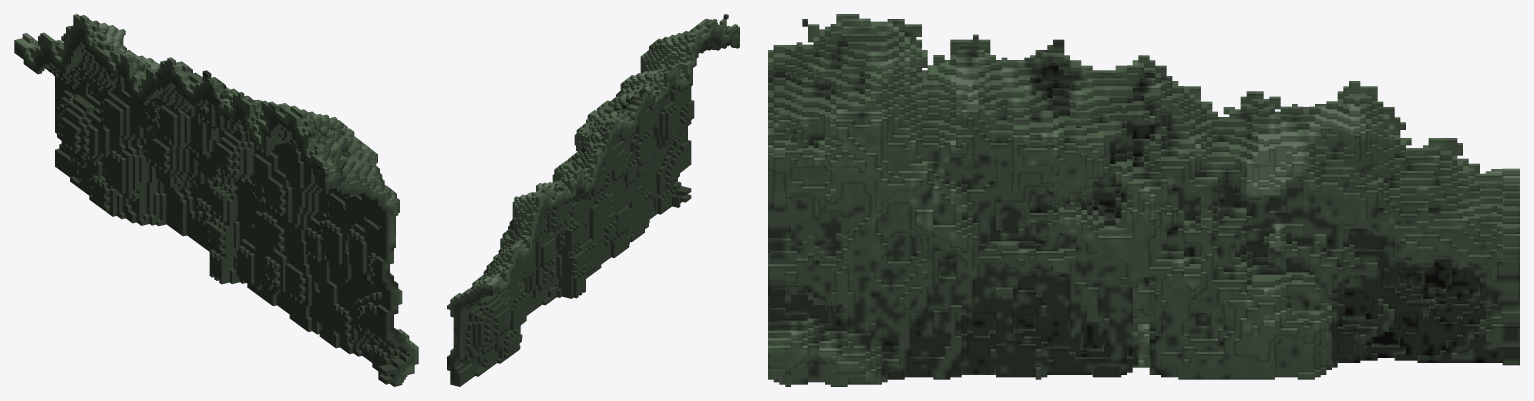
The model's file is treeline01-13-14r.fbx.
3 views of the same model, side by side, from view 1: azimuth 30°, elevation 25°; view 2: azimuth 150°, elevation 25°; view 3: azimuth 270°, elevation 25° (orthographic). The views are drawn at different scales.
Visible parts, largest first — view 1: treeline01-13-14r; view 2: treeline01-13-14r; view 3: treeline01-13-14r.
Boxes of the visible parts, box(x1,y1,x2,y2) form: treeline01-13-14r: box(14, 14, 418, 386); treeline01-13-14r: box(447, 14, 739, 386); treeline01-13-14r: box(768, 14, 1519, 386).
Bounding box in the file's own units: 23 × 62 × 132.
